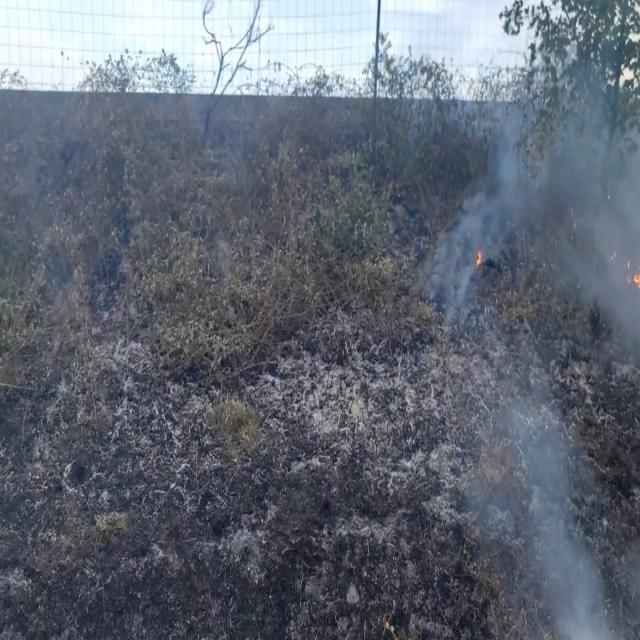Smoke: (444, 48, 640, 375), (434, 367, 638, 638)
